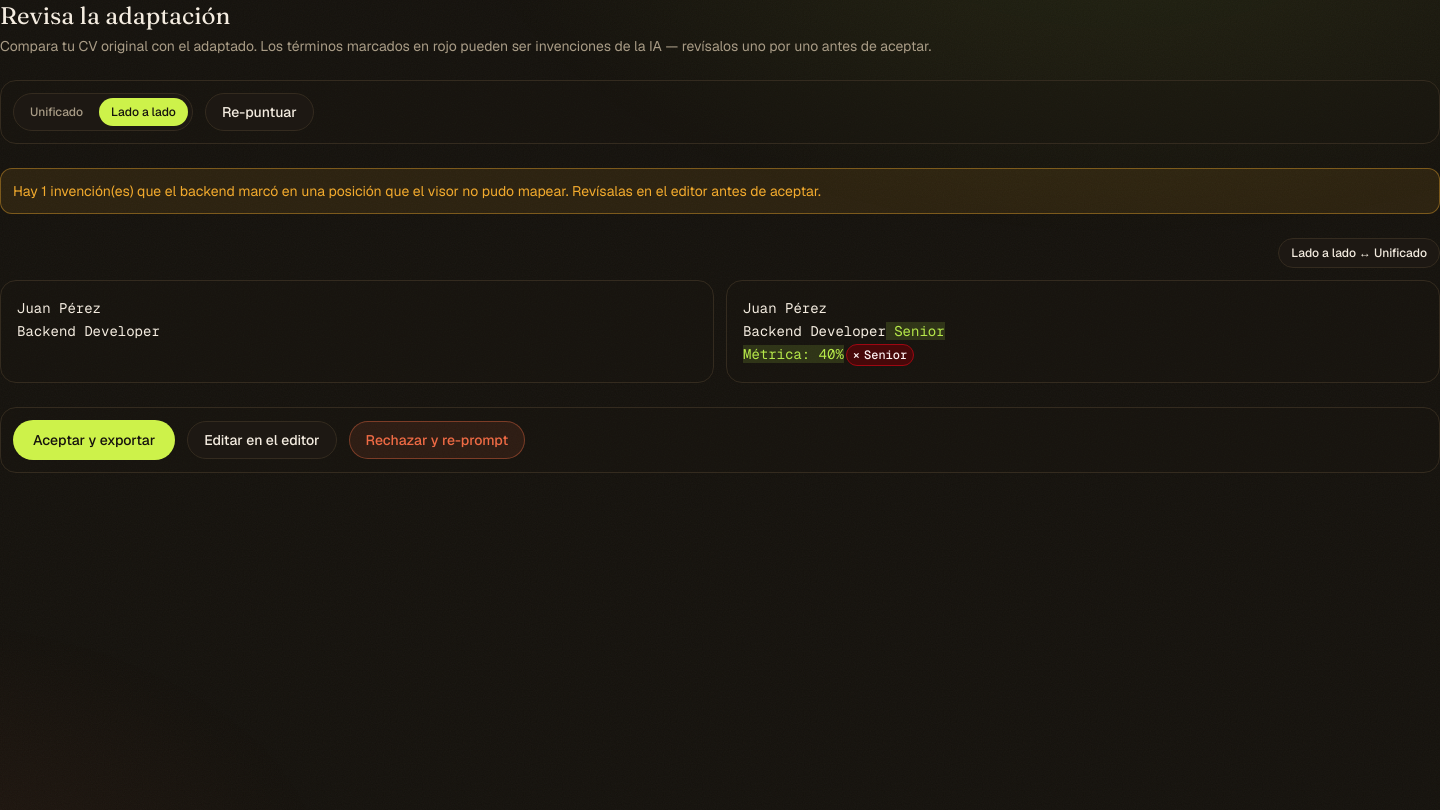
Test: DiffPage › edición con valor válido → actualiza el texto y elimina el flag
Check: the element named "diff" is shown, box [0,238,1439,382]
Click the button "× Senior": (880, 354) [846,344,914,366]
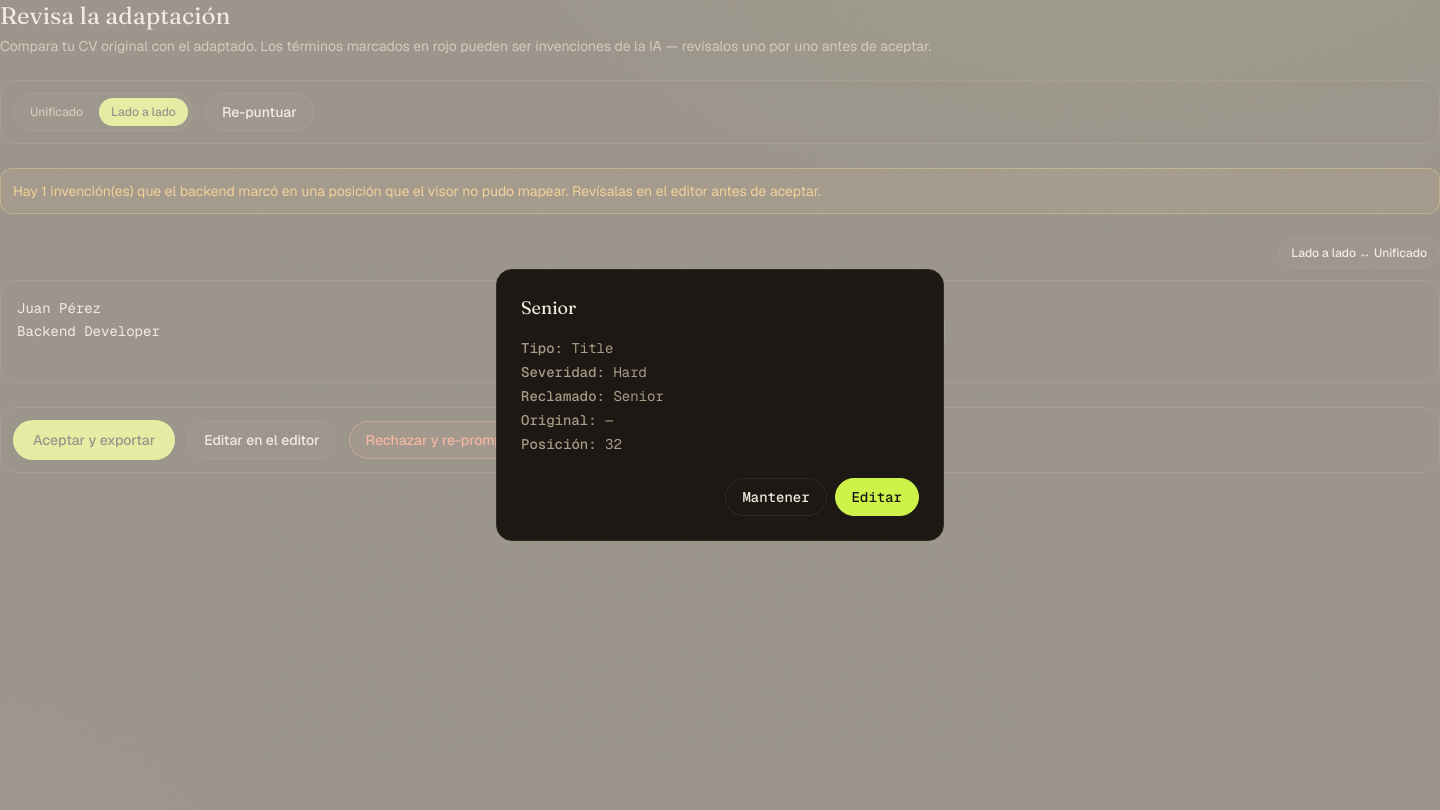
Check: the button "Editar" is shown
Click the button "Editar": (877, 497) [835,478,919,516]
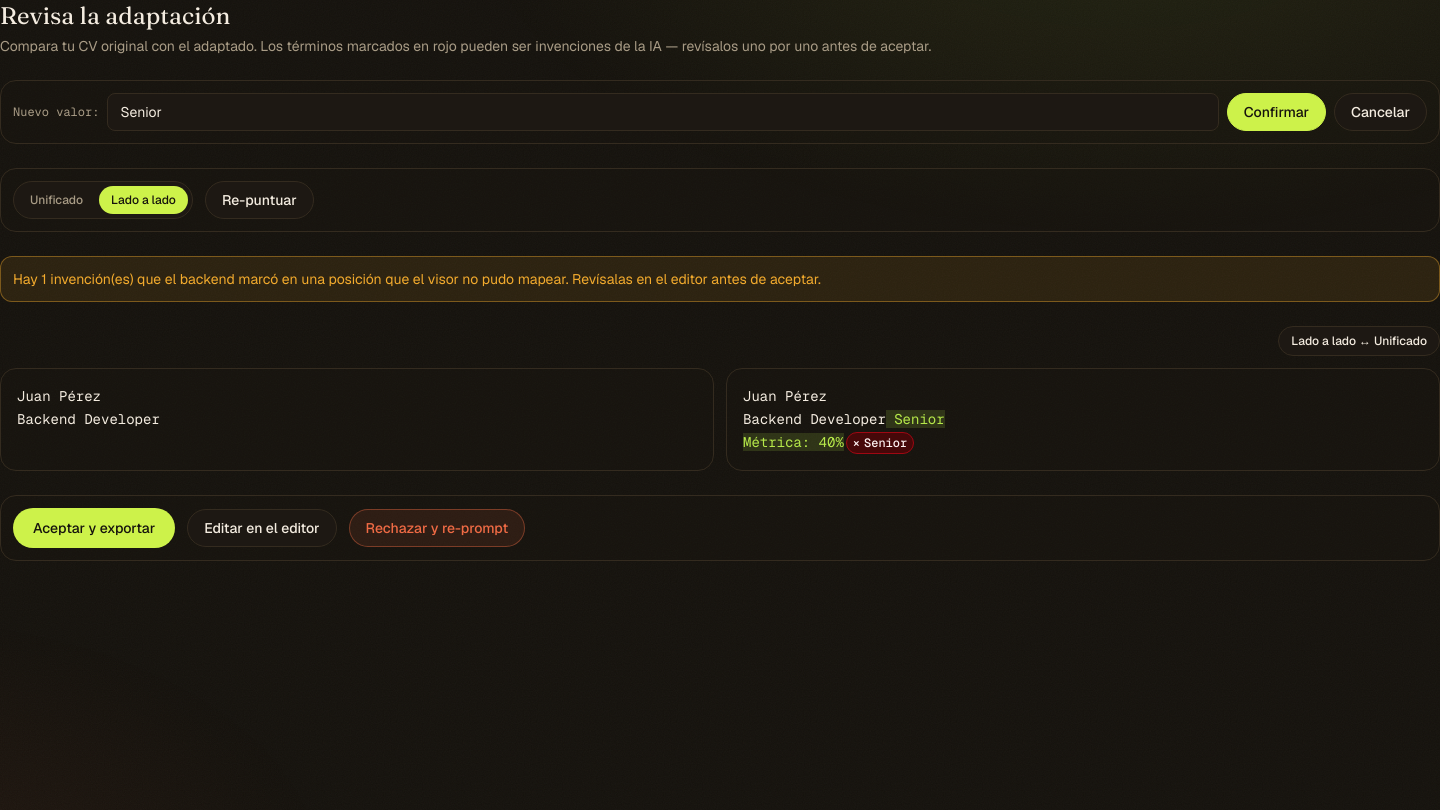
Replace the text in the field with "Mid": (663, 112) [107,93,1219,131]
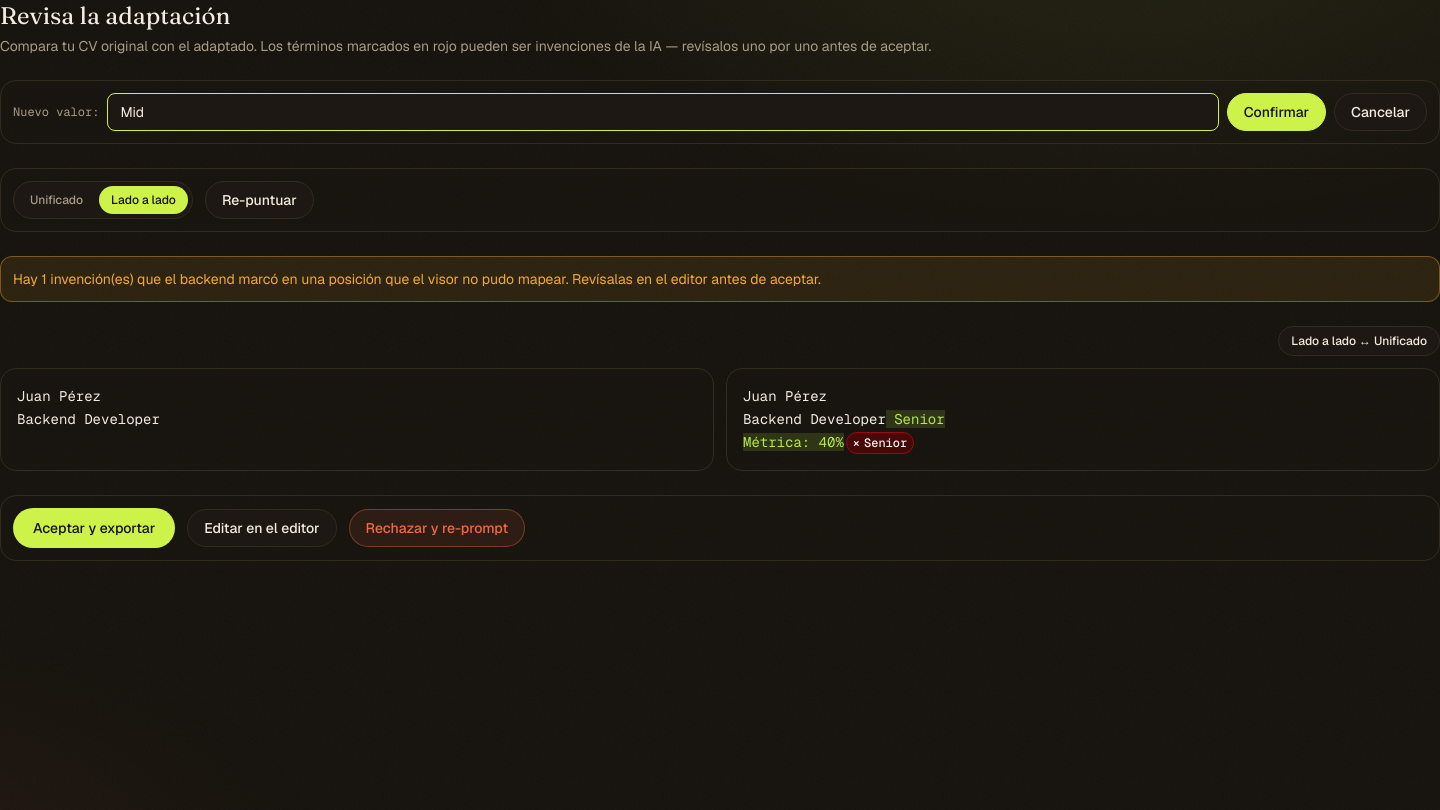
Press Enter
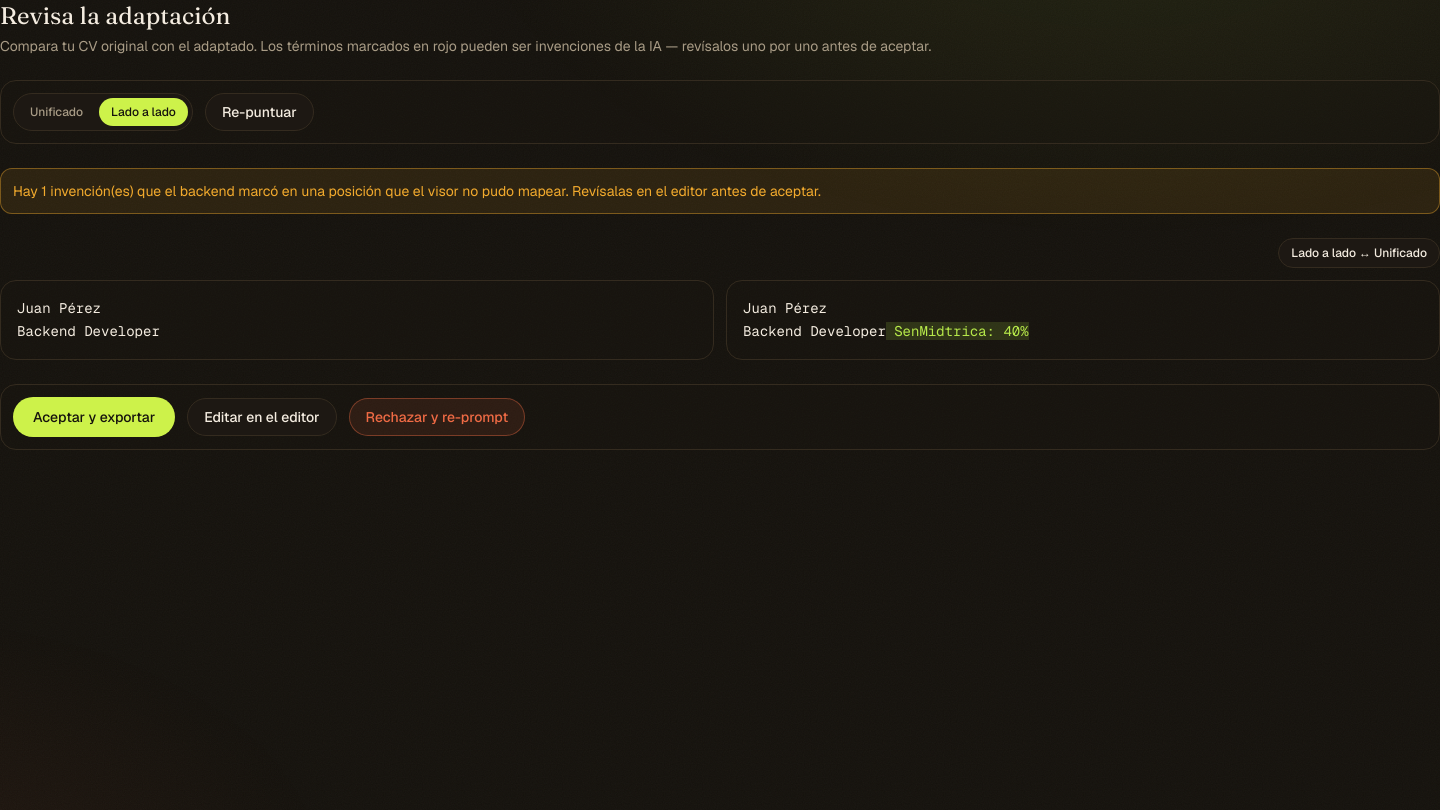
Check: the field is gone
Check: the button "Senior" is gone
